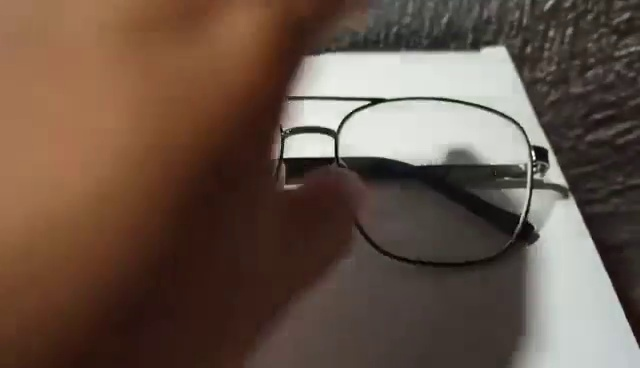glasses: (271, 91, 550, 276)
